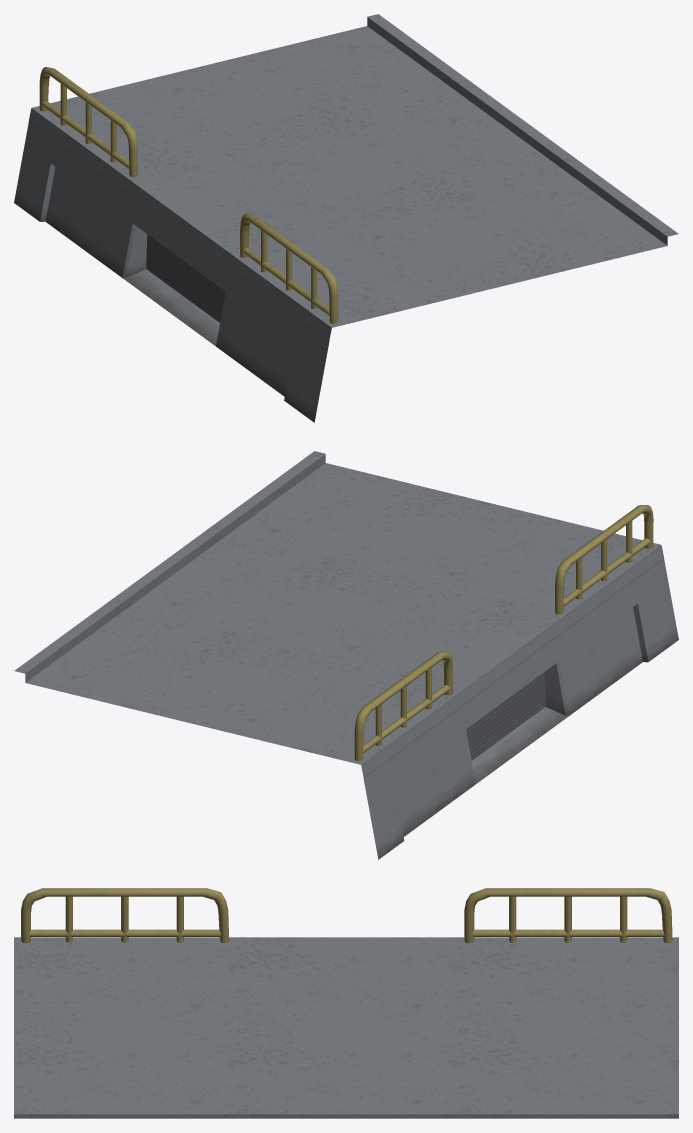
The model's file is spaceStation_sidewalk_d.fbx.
3 renders of one model, top to bottom at view 1: azimuth 30°, elevation 25°; view 2: azimuth 150°, elevation 25°; view 3: azimuth 270°, elevation 25°, orthographic. The views are drawn at different scales.
Visible parts, largest first — view 1: station_Sidewalk_Floor, station_Sidewalk_Wall, station_Sidewalk_Fence, station_Sidewalk_Grate; view 2: station_Sidewalk_Floor, station_Sidewalk_Wall, station_Sidewalk_Fence, station_Sidewalk_Grate; view 3: station_Sidewalk_Floor, station_Sidewalk_Fence.
Boxes of the visible parts, x1,y1,x2,y2 form: station_Sidewalk_Floor: (32,14,678,327); station_Sidewalk_Wall: (14,108,331,422); station_Sidewalk_Fence: (39,67,338,323); station_Sidewalk_Grate: (146,234,225,322); station_Sidewalk_Floor: (14,451,660,764); station_Sidewalk_Wall: (361,545,678,859); station_Sidewalk_Fence: (354,505,653,761); station_Sidewalk_Grate: (466,672,545,760); station_Sidewalk_Floor: (14,937,678,1118); station_Sidewalk_Fence: (21,888,672,943).
Bounding box in the file's own units: 8.4 × 3.06 × 12.
4 materials, 4 textured.
